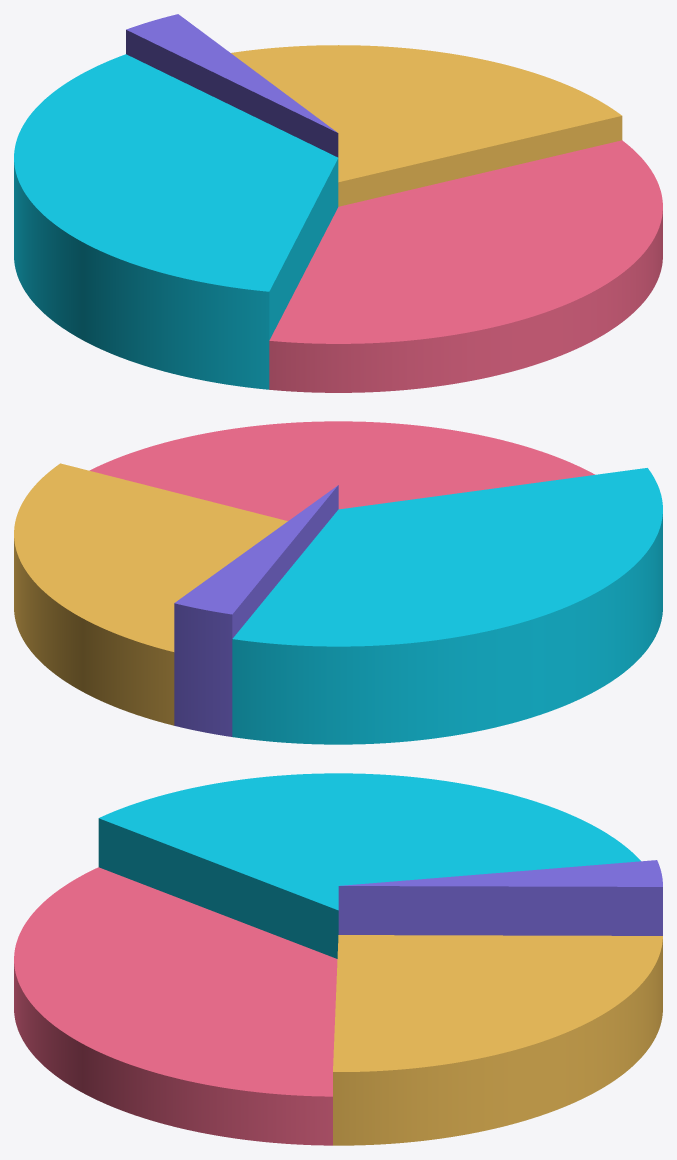
Rendered from children2.fbx.
The picture shows the model from 3 angles, top to bottom: view 1: azimuth 30°, elevation 25°; view 2: azimuth 150°, elevation 25°; view 3: azimuth 270°, elevation 25°; orthographic projection.
Visible parts, largest first — view 1: Children_1_obj; view 2: Children_1_obj; view 3: Children_1_obj.
Boxes of the visible parts, left/top/right/bottom form: Children_1_obj: left=14, top=14, right=662, bottom=392; Children_1_obj: left=14, top=421, right=662, bottom=744; Children_1_obj: left=14, top=773, right=662, bottom=1145.
Bounding box in the file's own units: 2.4 × 0.5 × 2.4.
